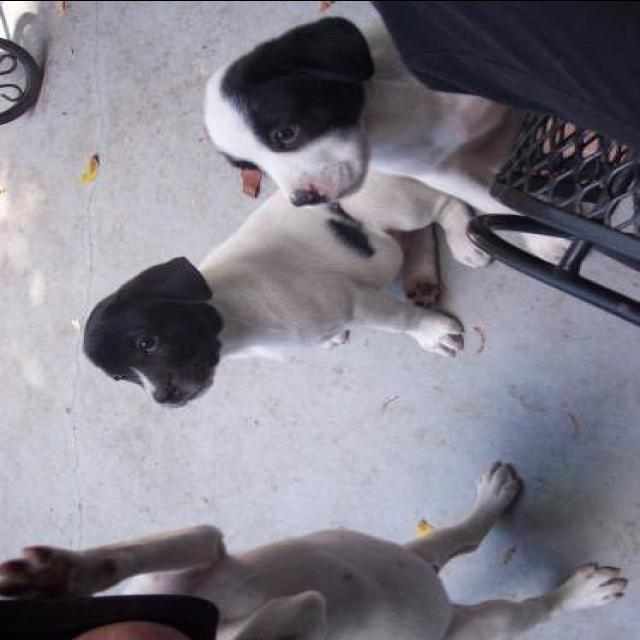dog: (70, 194, 464, 408)
